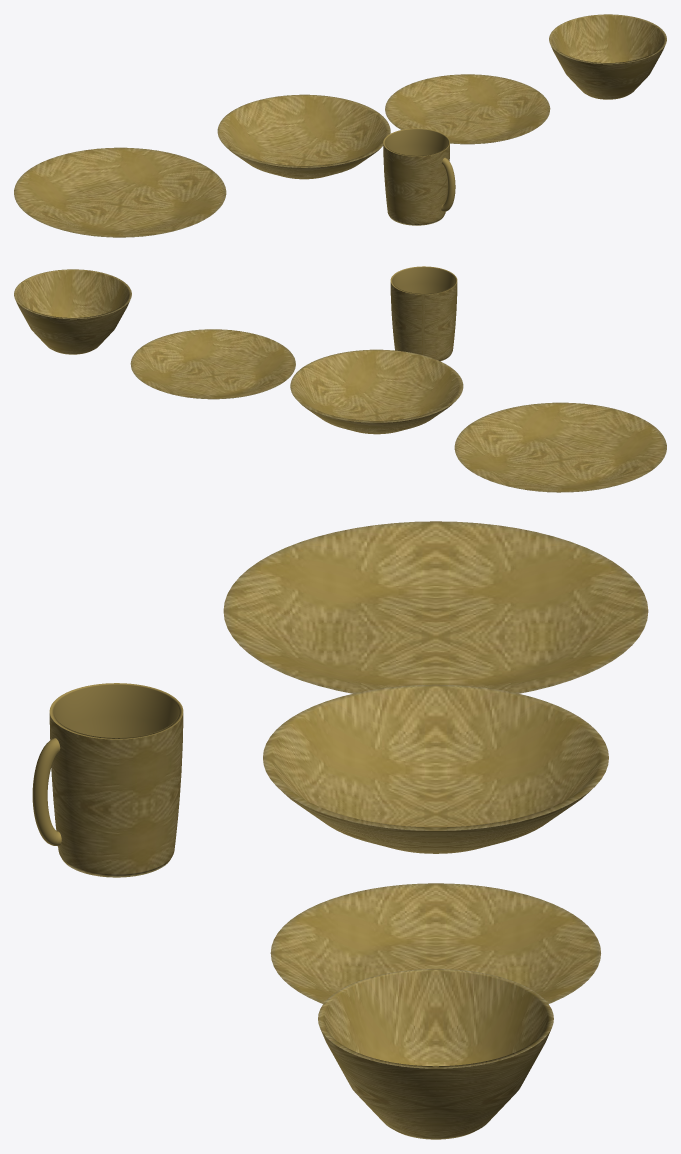
3 views of the same model, one above another, from view 1: azimuth 30°, elevation 25°; view 2: azimuth 150°, elevation 25°; view 3: azimuth 270°, elevation 25° (orthographic). The views are drawn at different scales.
Bounding box in the file's own units: 0.926 × 0.1 × 0.3913.
Materials: 11 (9 with a texture image).
